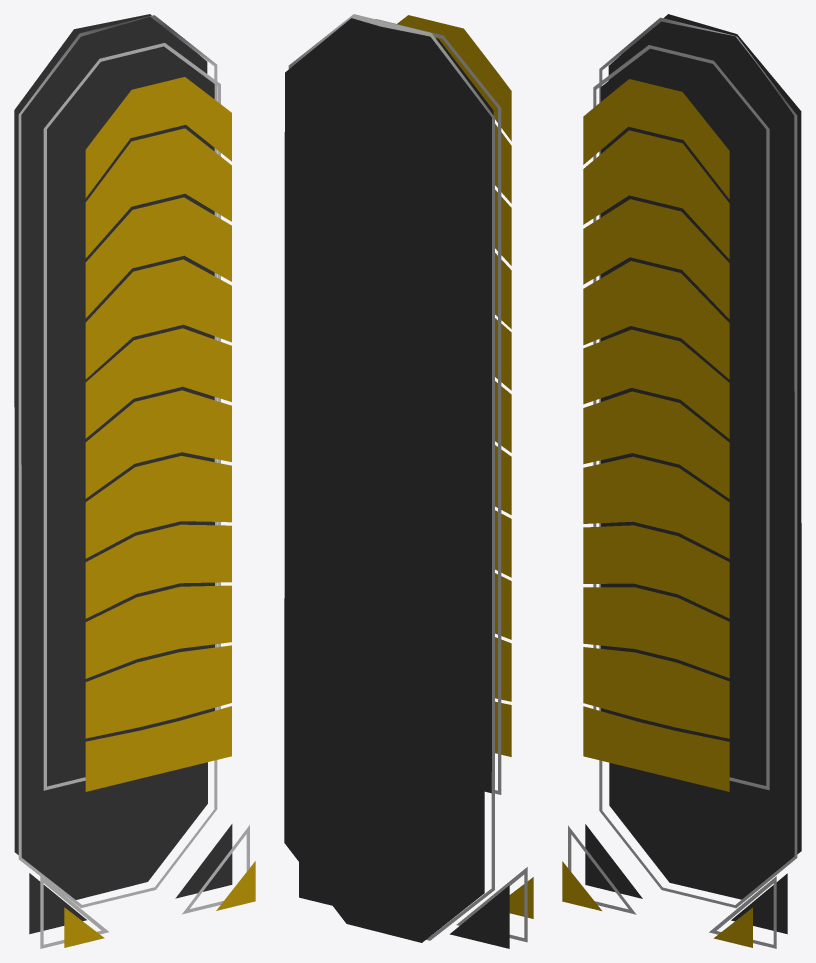
File: vertical_gauge_thin.fbx
3 renders of one model, left to right at view 1: azimuth 30°, elevation 25°; view 2: azimuth 150°, elevation 25°; view 3: azimuth 330°, elevation 25°, orthographic. The views are drawn at different scales.
Visible parts, largest first — view 1: vertical_background, vertical_tick_back, vertical_tick4, vertical_tick2, vertical_tick7, vertical_tick10, vertical_tick9, vertical_tick6, vertical_tick8, vertical_tick5, vertical_tick3, vertical_tick11 (+9 smaller); view 2: vertical_background, vertical_tick_back, outline2, vertical_tick1, outline1, vertical_l_cnr_back, vertical_tick4, vertical_tick2, vertical_tick7, vertical_tick10, vertical_tick9, vertical_tick6 (+7 smaller); view 3: vertical_background, vertical_tick_back, vertical_tick2, vertical_tick4, vertical_tick7, vertical_tick10, vertical_tick6, vertical_tick9, vertical_tick8, vertical_tick5, vertical_tick3, vertical_tick11 (+9 smaller).
Boxes of the visible parts, bbox=[...] form: vertical_background: bbox=[14, 14, 207, 899]; vertical_tick_back: bbox=[44, 41, 214, 783]; vertical_tick4: bbox=[85, 259, 231, 378]; vertical_tick2: bbox=[85, 128, 231, 257]; vertical_tick7: bbox=[85, 456, 231, 558]; vertical_tick10: bbox=[85, 645, 231, 738]; vertical_tick9: bbox=[85, 585, 231, 678]; vertical_tick6: bbox=[85, 390, 231, 498]; vertical_tick8: bbox=[85, 524, 231, 618]; vertical_tick5: bbox=[85, 328, 231, 438]; vertical_tick3: bbox=[85, 197, 231, 318]; vertical_tick11: bbox=[85, 706, 231, 791]; vertical_background: bbox=[284, 18, 485, 942]; vertical_tick_back: bbox=[383, 27, 493, 793]; outline2: bbox=[288, 14, 494, 940]; vertical_tick1: bbox=[397, 15, 511, 140]; outline1: bbox=[375, 19, 501, 794]; vertical_l_cnr_back: bbox=[450, 885, 509, 948]; vertical_tick4: bbox=[495, 253, 511, 328]; vertical_tick2: bbox=[495, 124, 511, 203]; vertical_tick7: bbox=[495, 445, 511, 514]; vertical_tick10: bbox=[495, 637, 511, 701]; vertical_tick9: bbox=[495, 573, 511, 639]; vertical_tick6: bbox=[495, 381, 511, 452]; vertical_background: bbox=[608, 14, 801, 899]; vertical_tick_back: bbox=[600, 44, 770, 782]; vertical_tick2: bbox=[583, 130, 729, 258]; vertical_tick4: bbox=[583, 261, 729, 379]; vertical_tick7: bbox=[583, 456, 729, 558]; vertical_tick10: bbox=[583, 647, 729, 738]; vertical_tick6: bbox=[583, 391, 729, 498]; vertical_tick9: bbox=[583, 587, 729, 677]; vertical_tick8: bbox=[583, 525, 729, 618]; vertical_tick5: bbox=[583, 329, 729, 438]; vertical_tick3: bbox=[583, 199, 729, 318]; vertical_tick11: bbox=[583, 706, 729, 791].
Size of the model in its own units: 3.19 by 12.8 by 1.27.
